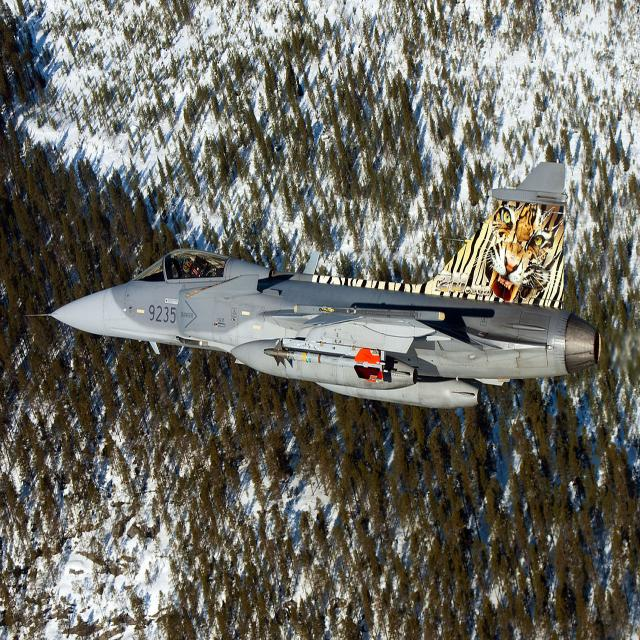MIL_Plane: (25, 160, 601, 410)
